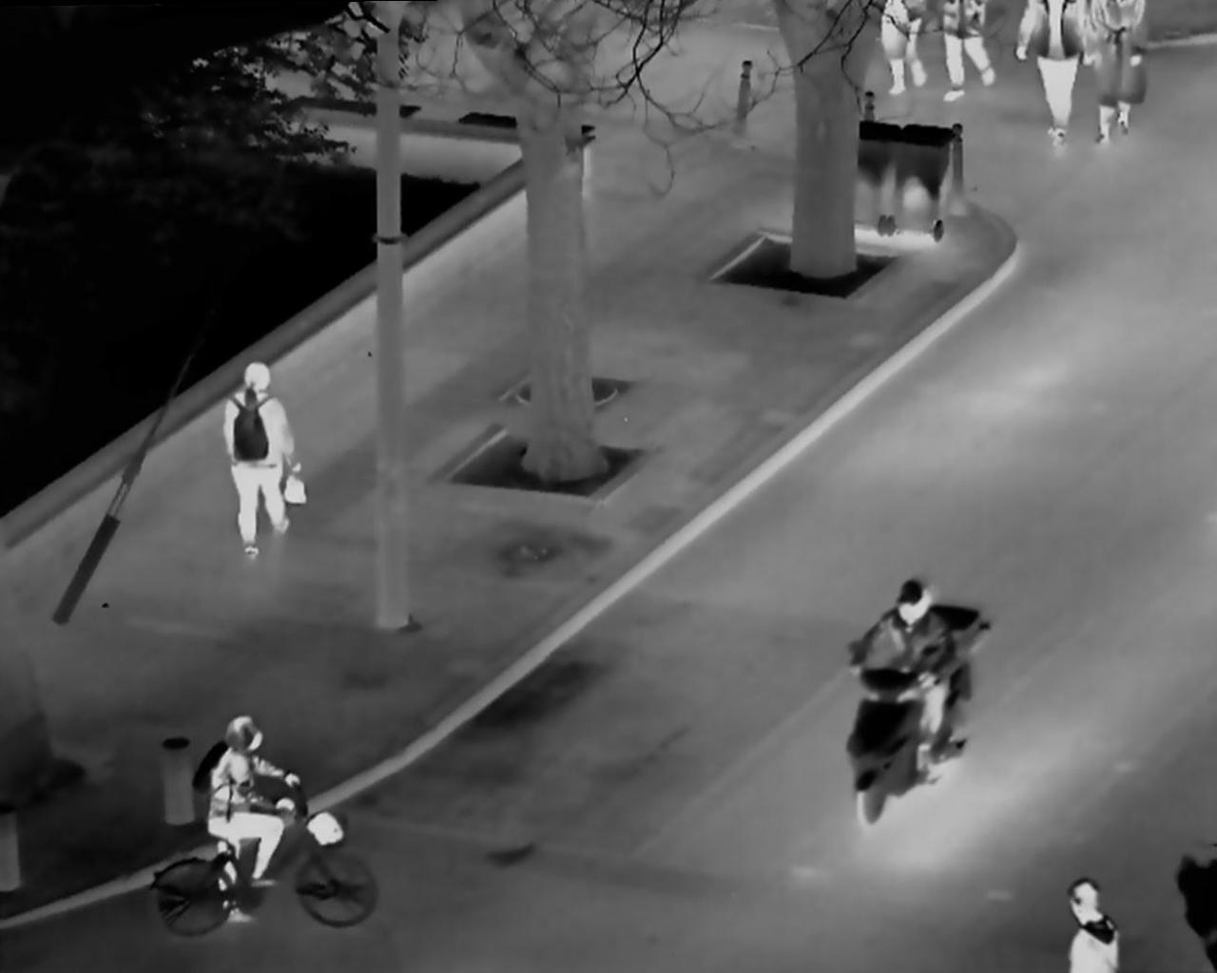person: (184, 703, 315, 926), (841, 563, 958, 805), (208, 353, 314, 568), (1049, 861, 1126, 973), (939, 2, 997, 111)
